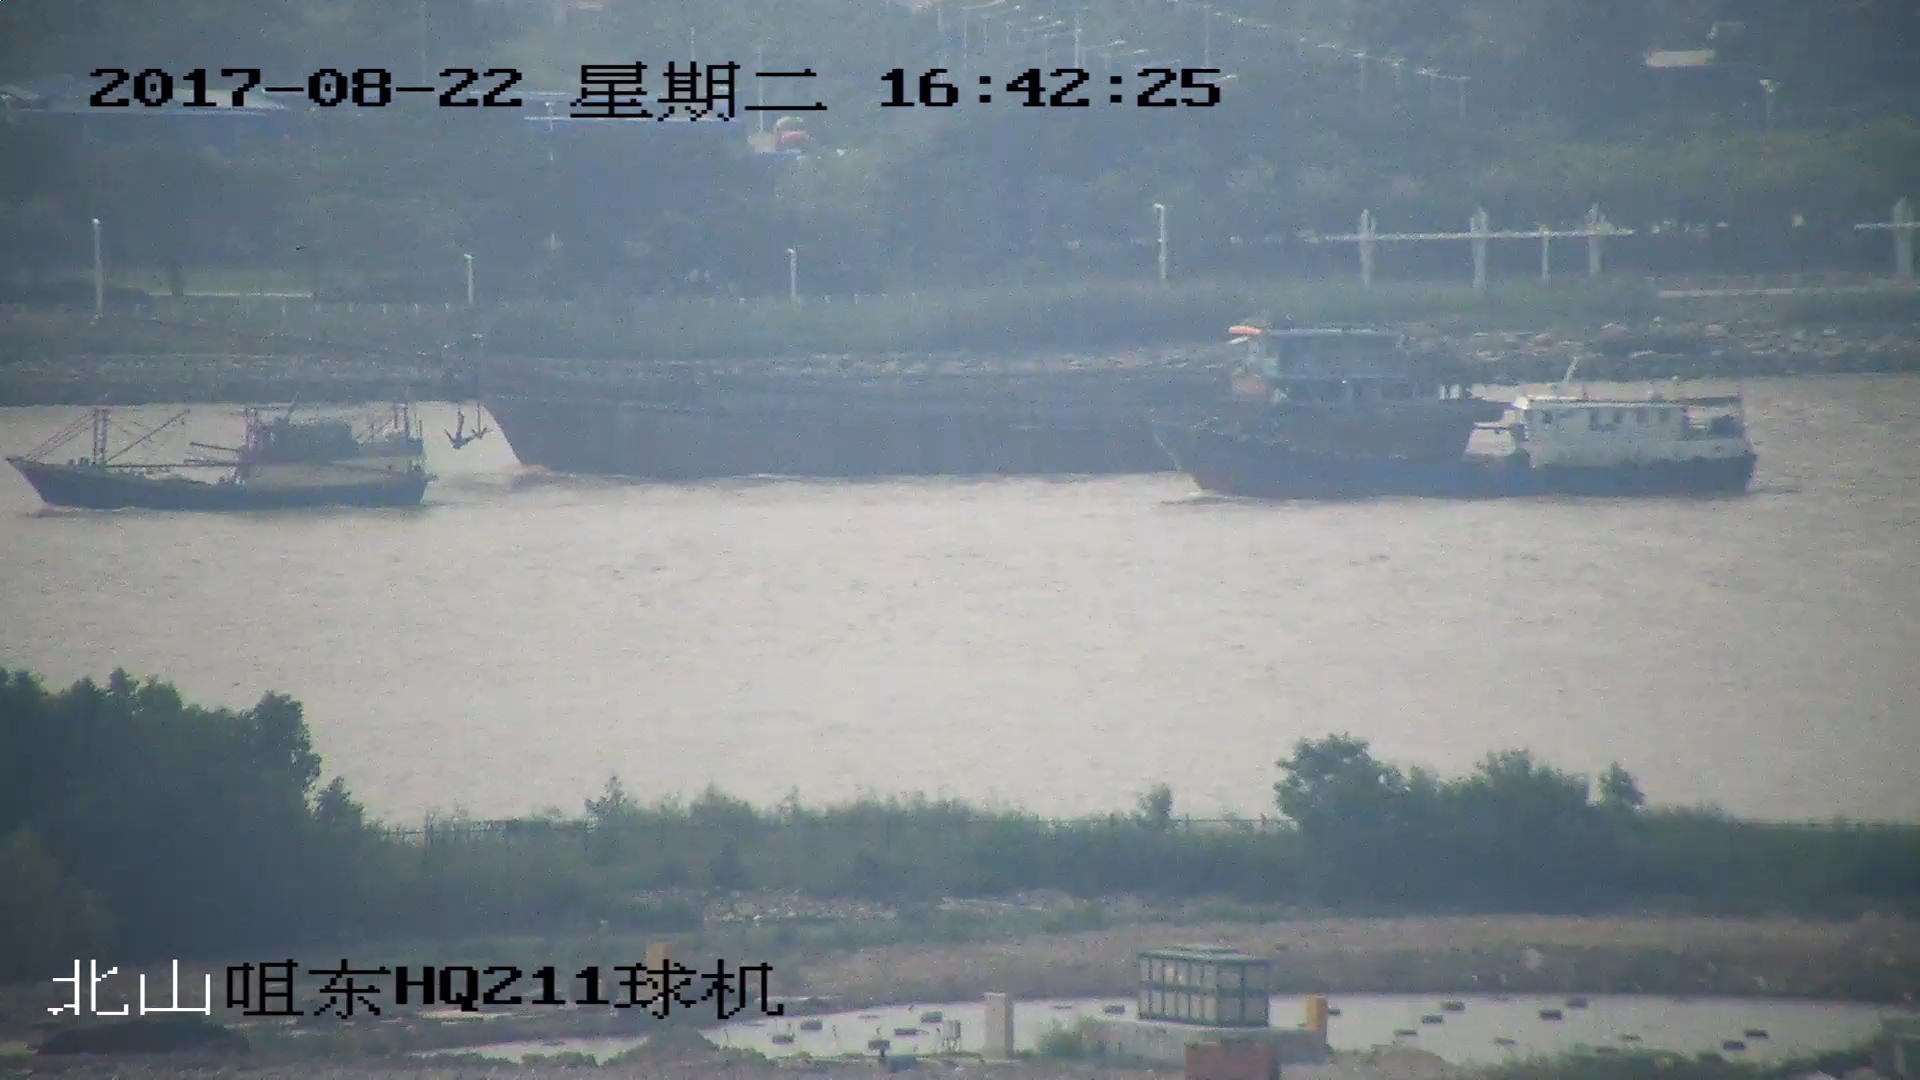Ship: (107, 311, 1487, 479), (1156, 386, 1754, 504), (13, 394, 430, 508)
